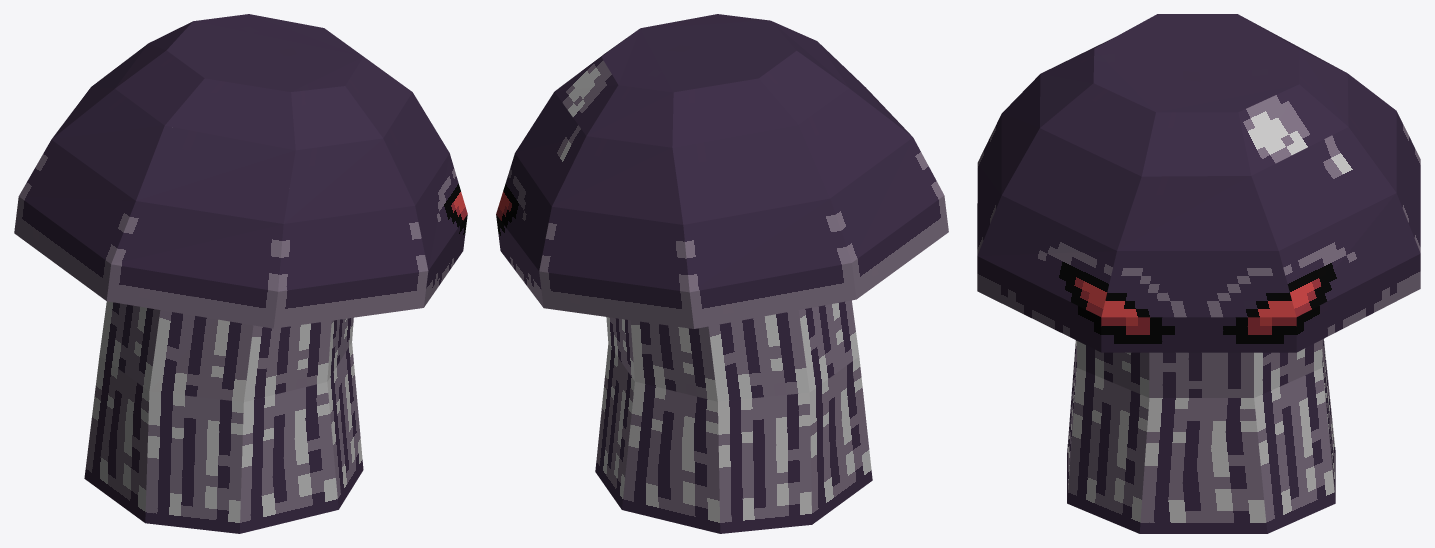
Rendered from modelo3.glb.
3 views of the same model, side by side, from view 1: azimuth 30°, elevation 25°; view 2: azimuth 150°, elevation 25°; view 3: azimuth 270°, elevation 25° (orthographic). The views are drawn at different scales.
Parts seen in each view (by area): view 1: cylinder, cylinder_1; view 2: cylinder, cylinder_1; view 3: cylinder, cylinder_1.
Boxes of the visible parts, <box> form: cylinder: <box>14,14,467,328</box>; cylinder_1: <box>84,301,363,533</box>; cylinder: <box>496,14,948,328</box>; cylinder_1: <box>595,300,872,533</box>; cylinder: <box>977,14,1420,352</box>; cylinder_1: <box>1067,339,1335,533</box>.
Bounding box in the file's own units: 2.95 × 3.29 × 2.98.
1 material, 1 textured.
